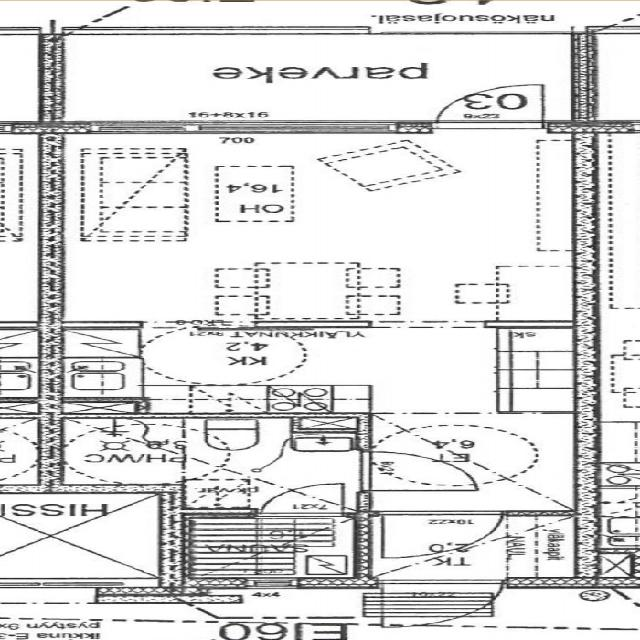door: (382, 511, 502, 558), (384, 580, 502, 626), (438, 83, 542, 128), (360, 452, 476, 490), (260, 483, 342, 517)
